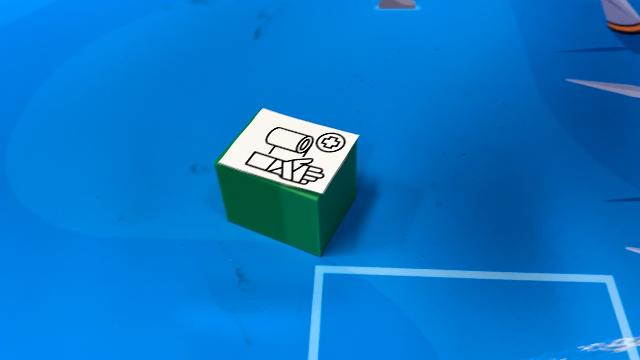bandage: (213, 105, 361, 256)
